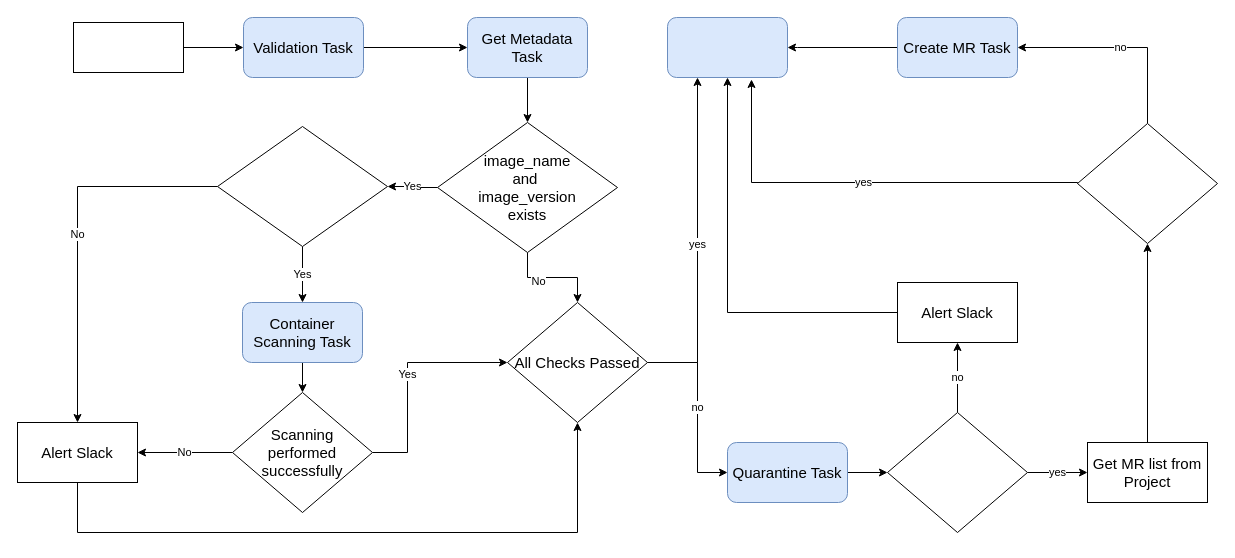
This 1235x558 diagram has some shape labels left out. Here are the shapes that lost their labels. From the top down, the centre of each, then its label:
At pixel 128 47: "Hook Validation".
At pixel 727 47: "Insert DB Task".
At pixel 302 186: "Artefact has required Metadata".
At pixel 1147 183: "MR already exists".
At pixel 957 472: "Metadata and Quarantine Repo exists".
